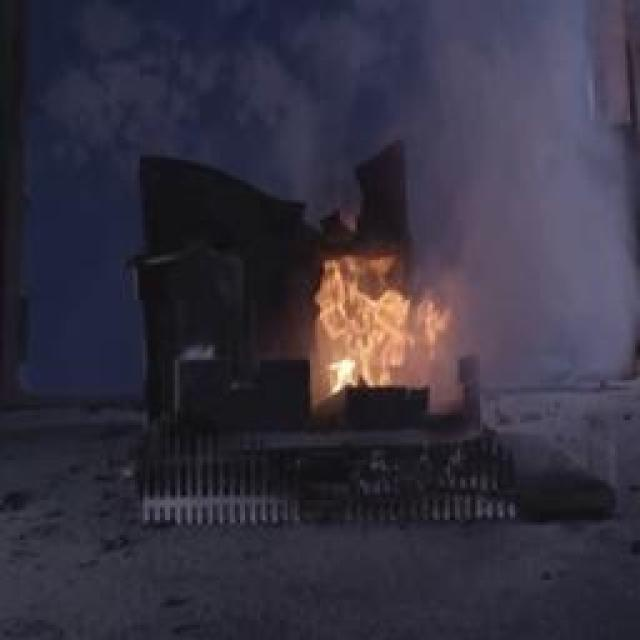fire: (310, 228, 460, 402)
